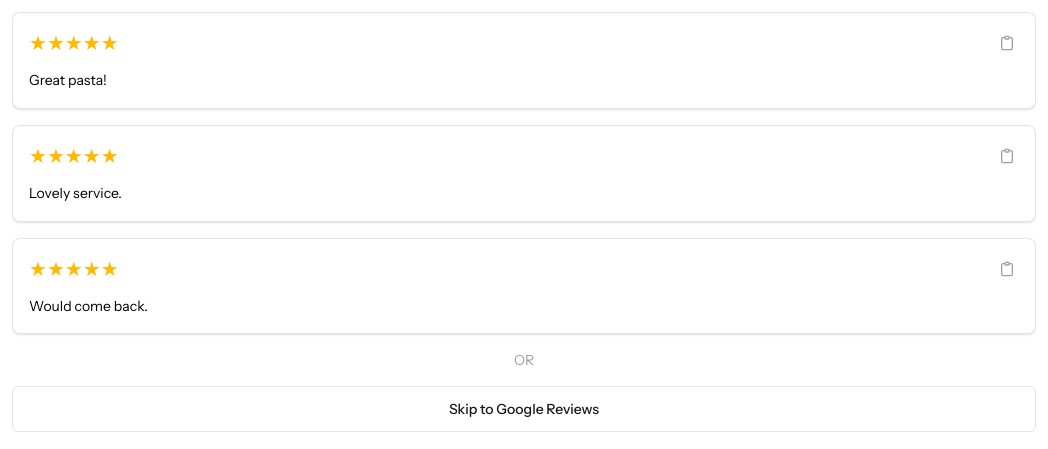
DraftPicker › after copy: link label changes to Go to Google Reviews
Click the button with aria-label "copy review": (74, 43) [12, 12, 1036, 109]
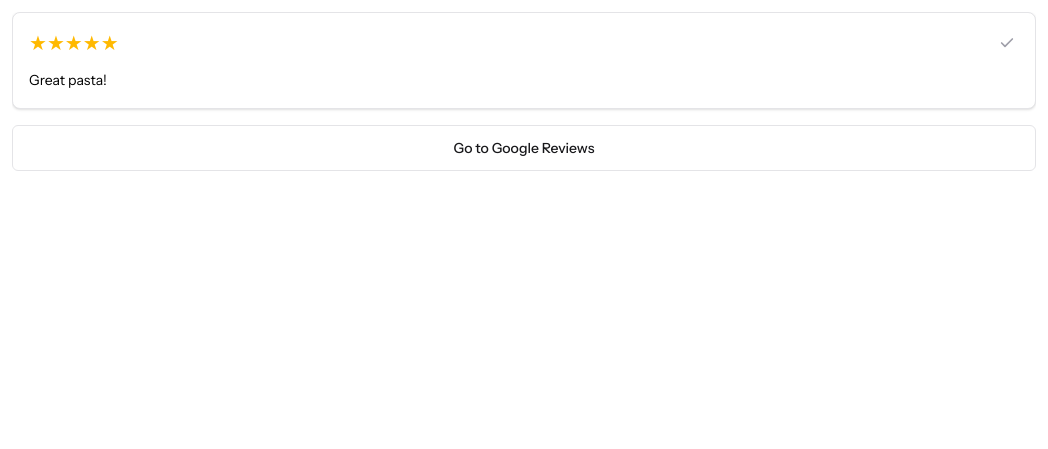
Now the link "Go to Google Reviews" is shown, box [12, 125, 1036, 171]
